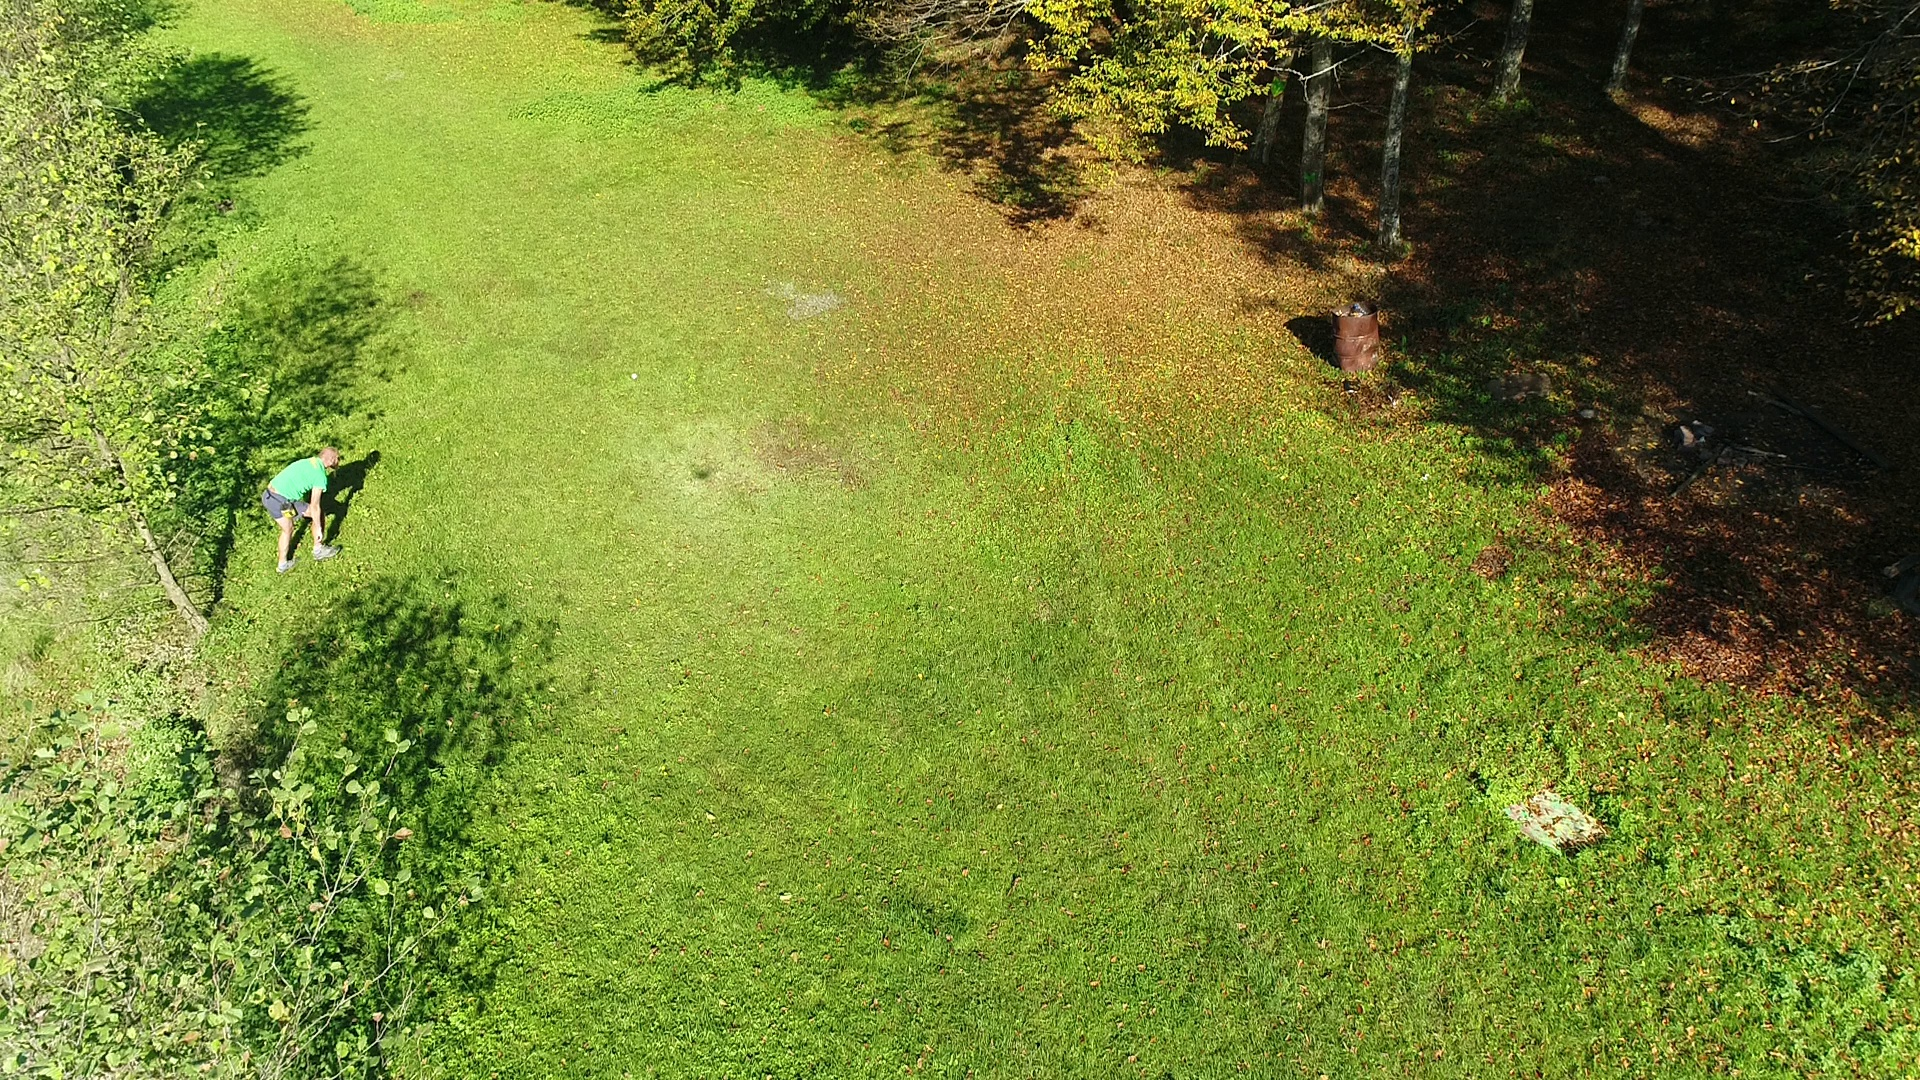person: (261, 443, 341, 575)
